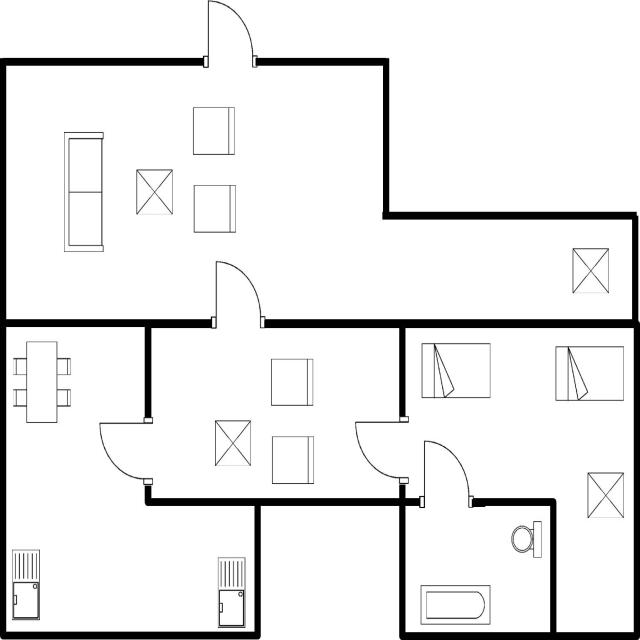bed: (417, 336, 495, 404), (550, 342, 627, 405), (568, 244, 614, 296)
coffee_table: (132, 163, 178, 221), (209, 415, 254, 473), (582, 466, 627, 520), (568, 244, 612, 298)
dining_table: (10, 337, 76, 430)
large_sink: (508, 516, 546, 562)
large_sofa: (58, 125, 106, 257)
sink: (8, 544, 45, 626), (214, 552, 248, 632)
small_sofa: (187, 101, 238, 161), (189, 180, 239, 238), (268, 432, 318, 488), (268, 354, 317, 410)
tub: (414, 582, 494, 628)
